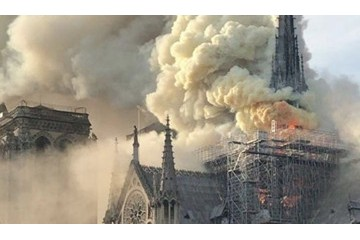smoke: (21, 20, 295, 134)
